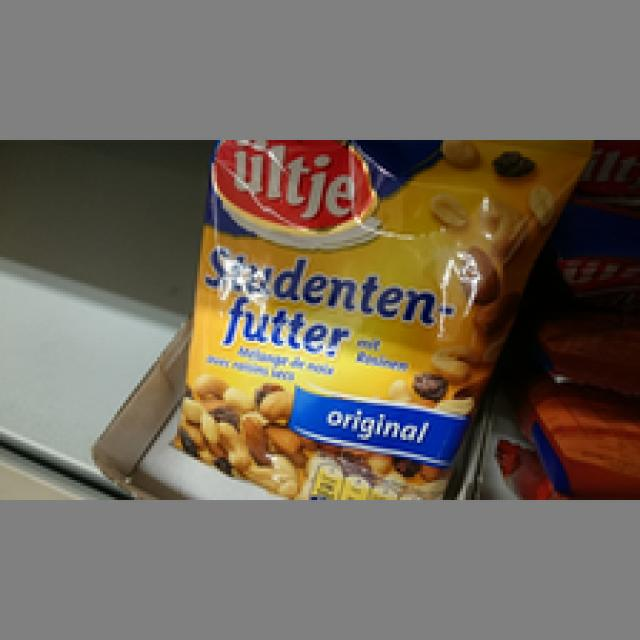groceries: (171, 137, 586, 497)
